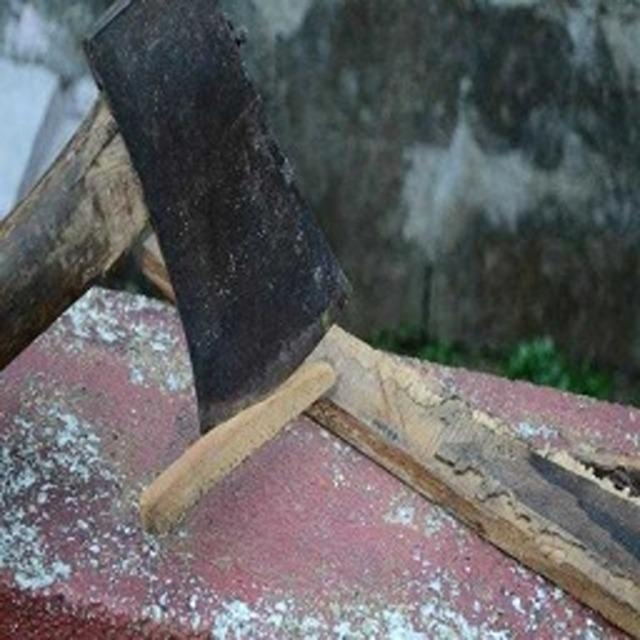ax: (0, 0, 361, 435)
